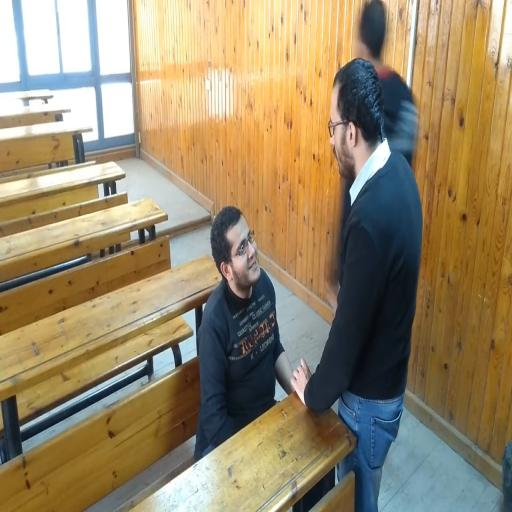nao-violencia: (189, 54, 428, 510)
